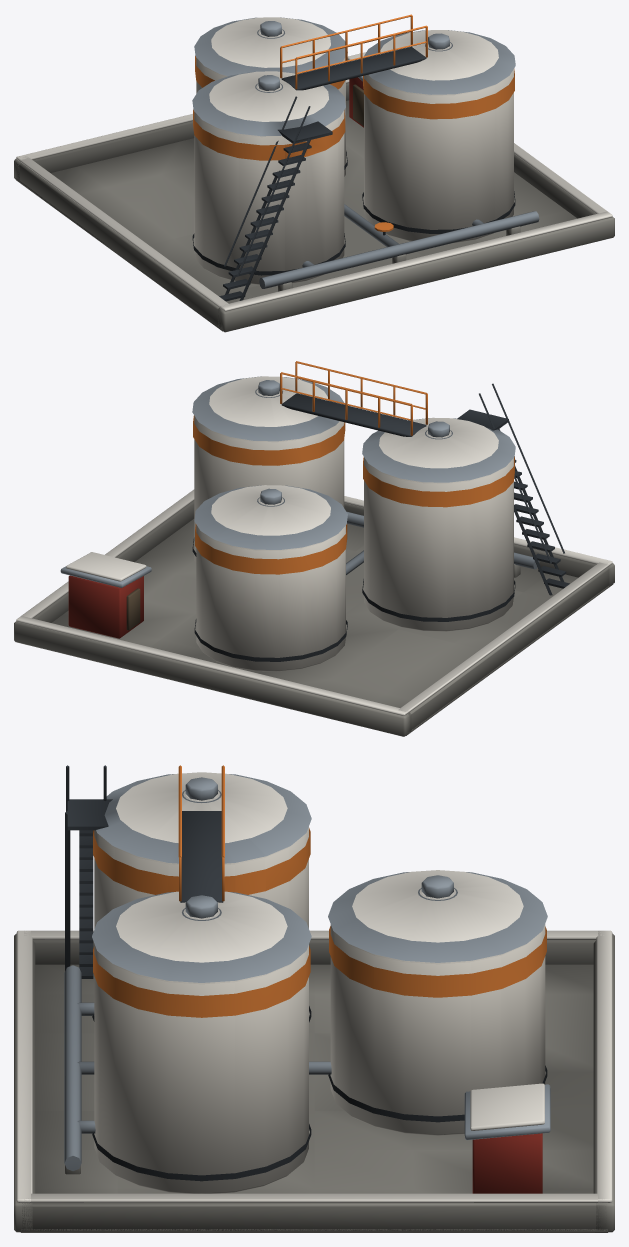
The model's file is fuel_tanks.glb.
3 views of the same model, one above another, from view 1: azimuth 30°, elevation 25°; view 2: azimuth 150°, elevation 25°; view 3: azimuth 270°, elevation 25° (orthographic). The views are drawn at different scales.
Visible parts, largest first — view 1: fuel_tanks_white_paint, fuel_tanks_concrete, fuel_tanks_snow, fuel_tanks_zinc, fuel_tanks_iron, fuel_tanks_signal_orange; view 2: fuel_tanks_white_paint, fuel_tanks_concrete, fuel_tanks_snow, fuel_tanks_zinc, fuel_tanks_signal_orange, fuel_tanks_iron, fuel_tanks_red_timber, fuel_tanks_wood; view 3: fuel_tanks_white_paint, fuel_tanks_concrete, fuel_tanks_snow, fuel_tanks_zinc, fuel_tanks_signal_orange, fuel_tanks_iron, fuel_tanks_red_timber.
Boxes of the visible parts, x1,y1,x2,y2 form: fuel_tanks_white_paint: (194, 58, 513, 284); fuel_tanks_concrete: (14, 83, 614, 332); fuel_tanks_snow: (16, 17, 612, 311); fuel_tanks_zinc: (192, 17, 539, 288); fuel_tanks_iron: (192, 46, 515, 301); fuel_tanks_signal_orange: (193, 14, 514, 231); fuel_tanks_white_paint: (194, 416, 513, 671); fuel_tanks_concrete: (14, 500, 614, 736); fuel_tanks_snow: (16, 376, 612, 715); fuel_tanks_zinc: (60, 376, 539, 587); fuel_tanks_signal_orange: (193, 361, 514, 574); fuel_tanks_iron: (192, 383, 569, 661); fuel_tanks_red_timber: (68, 575, 143, 638); fuel_tanks_wood: (126, 588, 140, 630); fuel_tanks_white_paint: (94, 827, 545, 1193); fuel_tanks_concrete: (14, 933, 614, 1232); fuel_tanks_snow: (16, 772, 612, 1202); fuel_tanks_zinc: (64, 774, 550, 1170); fuel_tanks_signal_orange: (93, 765, 546, 1017); fuel_tanks_iron: (65, 765, 547, 1181); fuel_tanks_red_timber: (472, 1133, 542, 1193).
Bounding box in the file's own units: 12 × 5.9 × 11.2.
